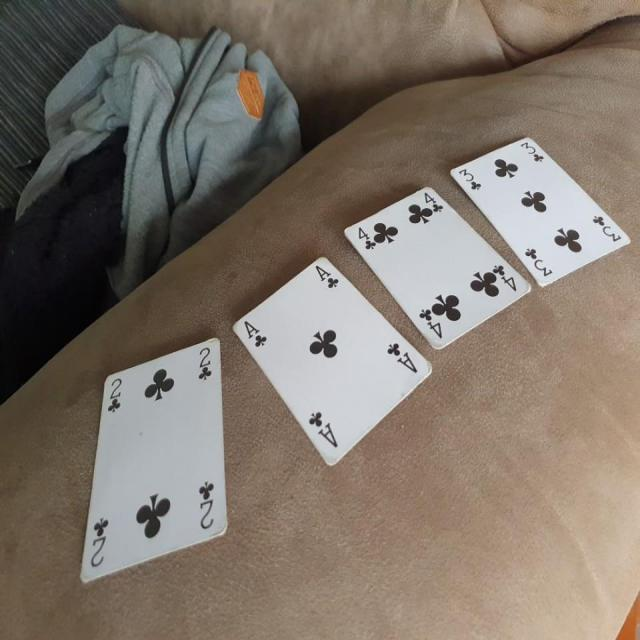2 Trefoils: (79, 335, 231, 584)
3 Trefoils: (450, 133, 633, 288)
4 Trefoils: (343, 186, 531, 354)
A Trefoils: (232, 254, 435, 465)
